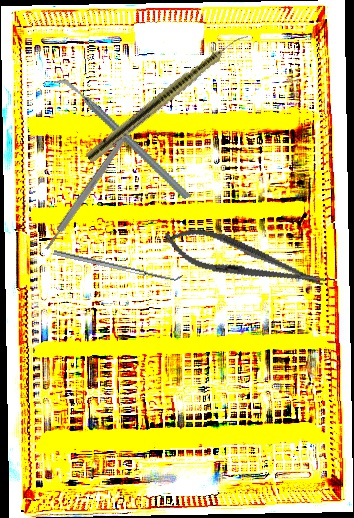Chopper: (53, 49, 192, 229)
Handpiece: (84, 27, 251, 166)
Needle Holder: (158, 217, 331, 304)
Scalpel Handle: (42, 134, 129, 252)
Spatula Surgical: (53, 244, 183, 285)
